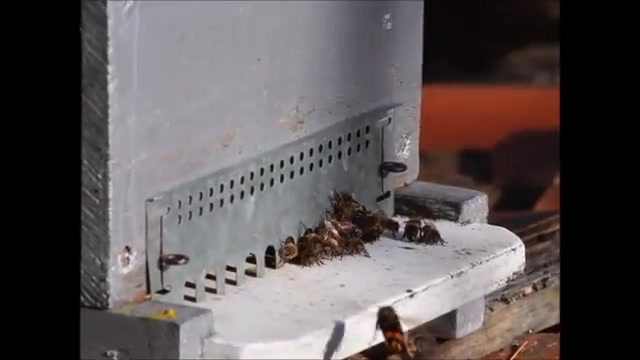bee: (364, 214, 404, 242), (303, 234, 331, 260), (334, 226, 359, 252), (339, 195, 364, 220), (422, 223, 447, 244), (278, 240, 298, 263), (403, 221, 422, 241)
hornet: (372, 306, 410, 353)
